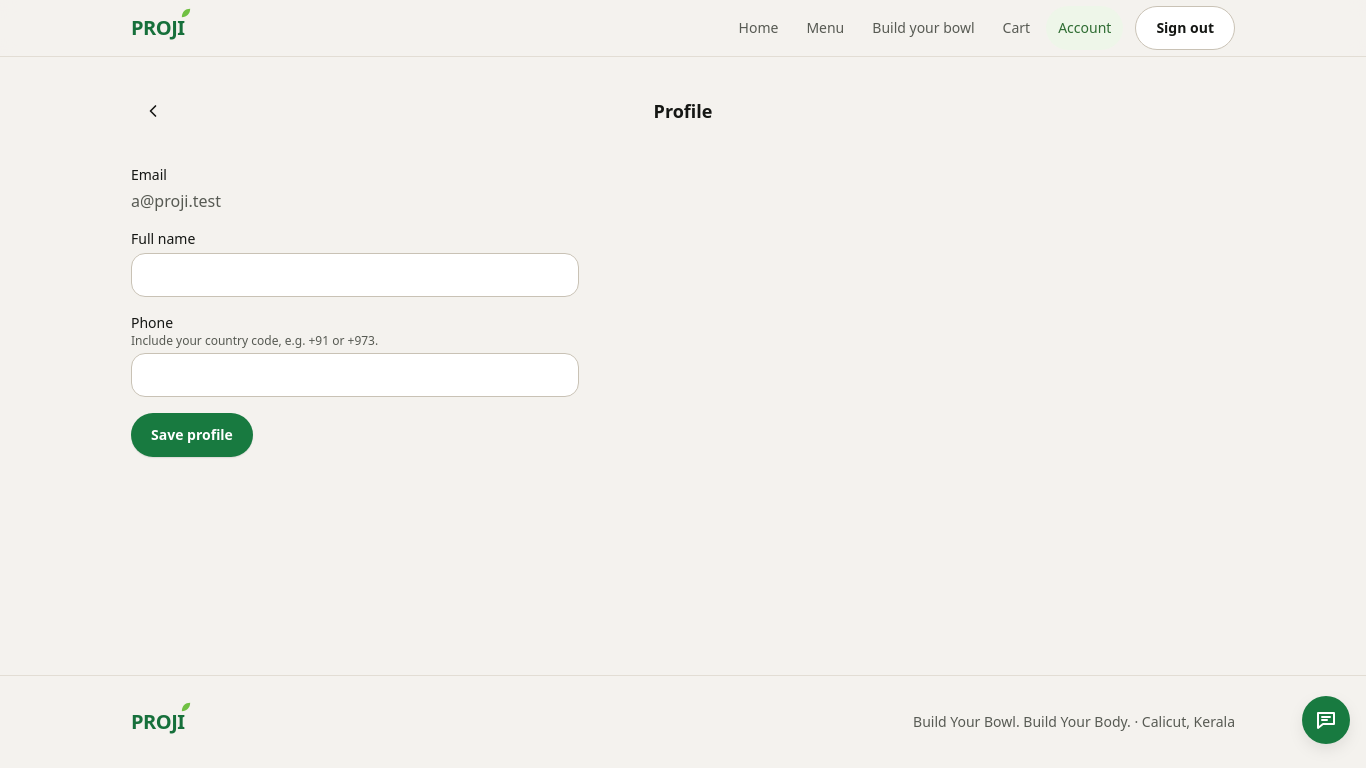
it: U-03/U-04 profile › recreates a missing profile, validates, focuses the invalid field and saves
Type "Akhil Raj" into the field labelled "Full name". click: (355, 275)
box: [131,253,579,297]
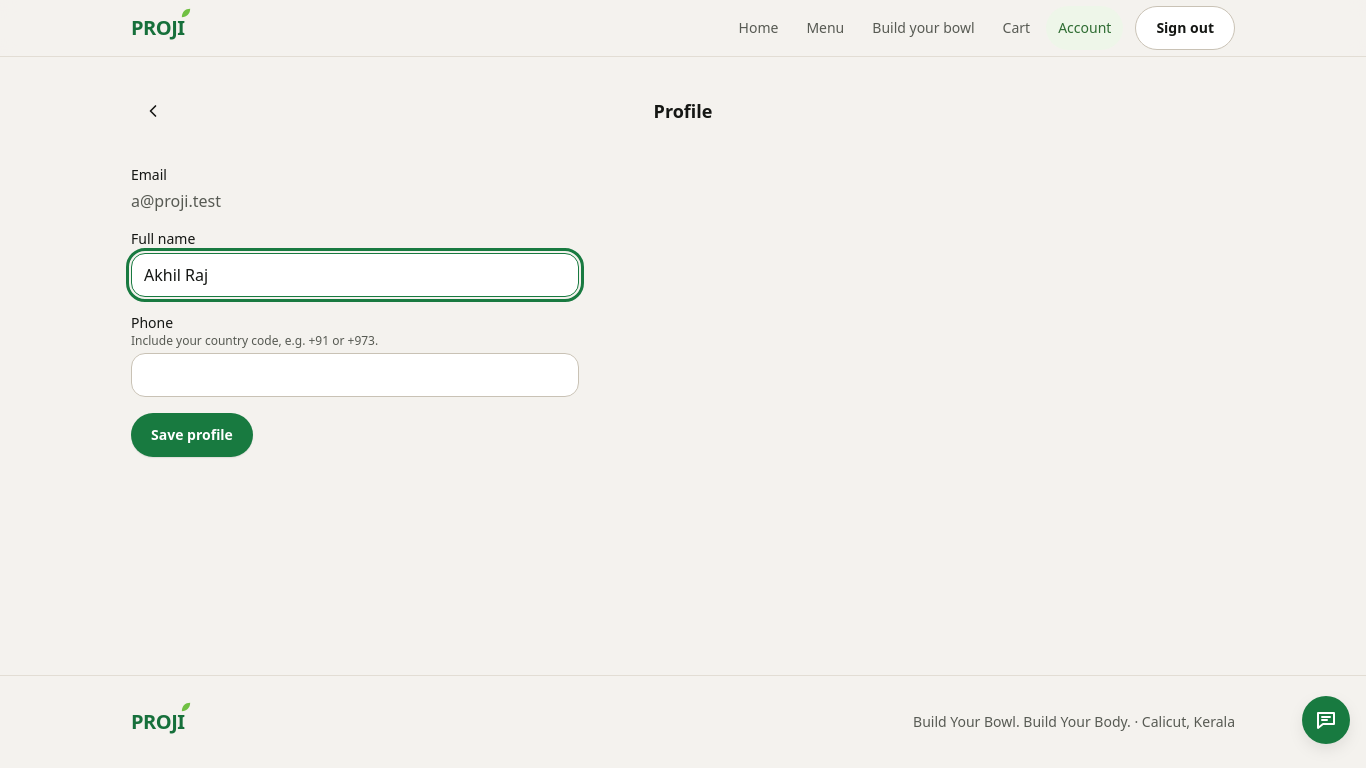
Type "not a phone" into the field labelled "Phone". click: (355, 375)
box: [131,353,579,397]
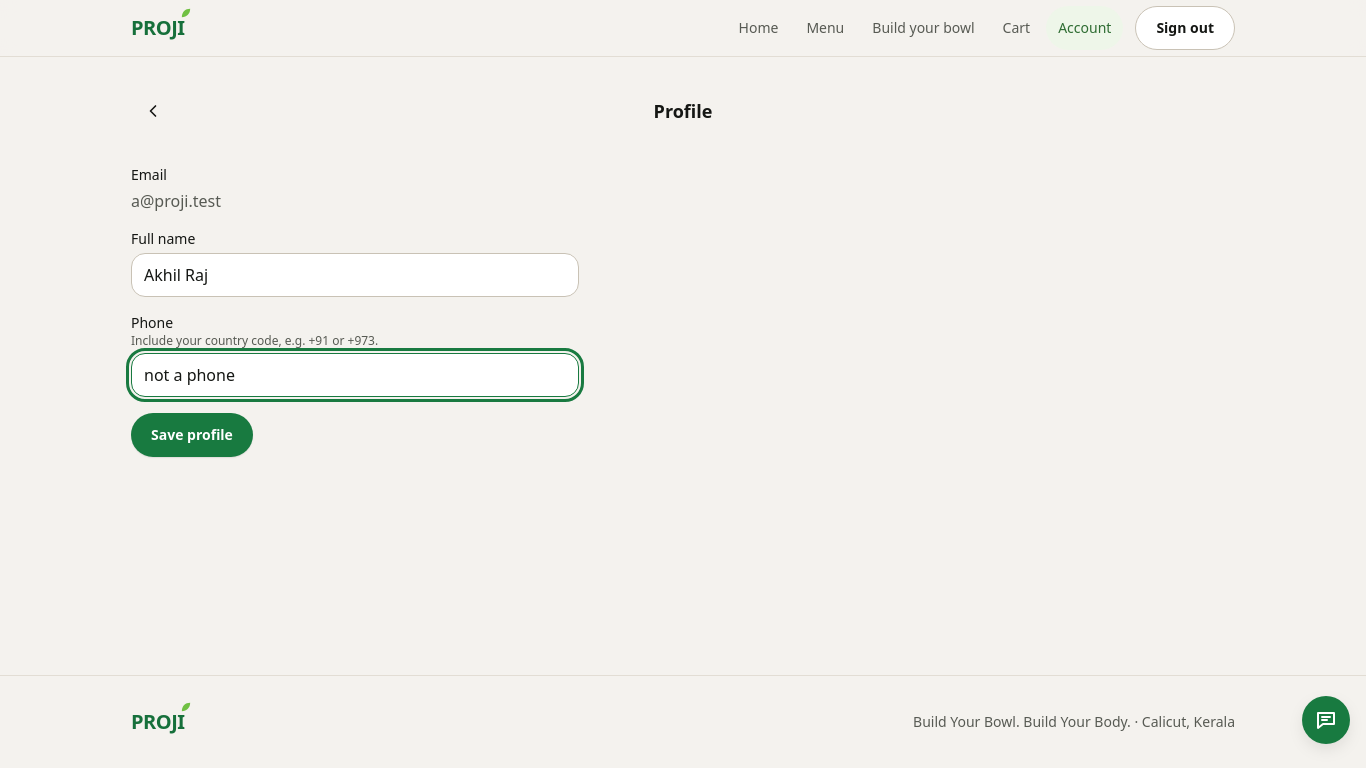
Click the button "Save profile". click: (192, 435)
box: [131,413,253,457]
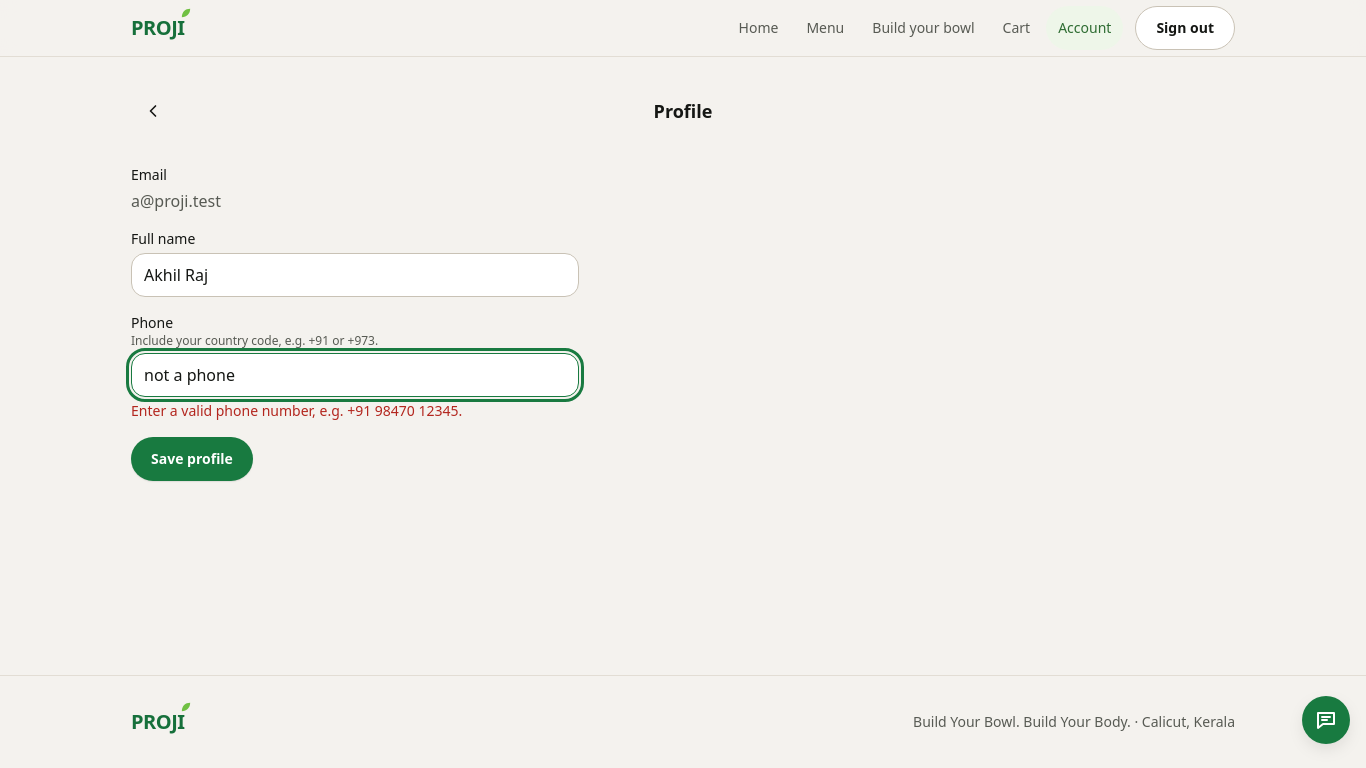
Replace the text in the field labelled "Phone" with "+91 98470 12345". click: (355, 375)
box: [131,353,579,397]
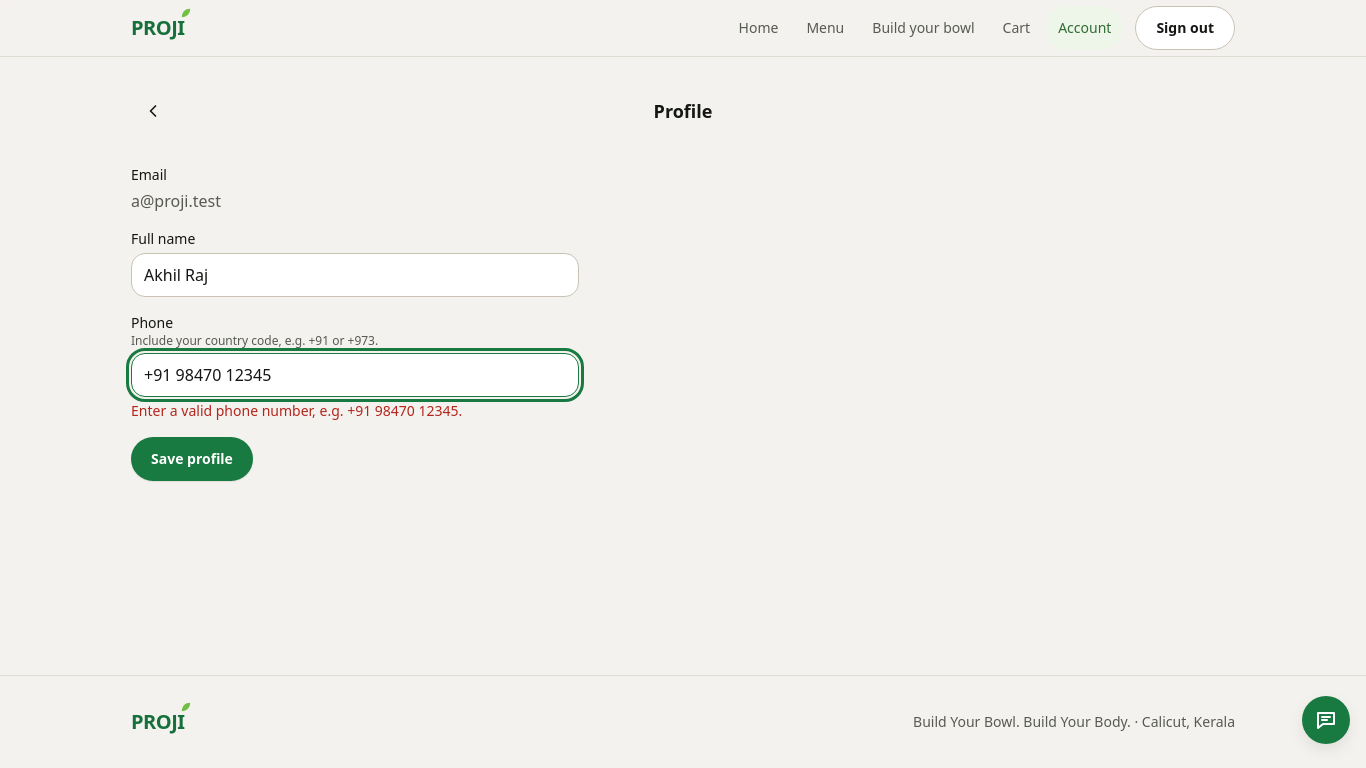
Click the button "Save profile". click: (192, 459)
box: [131,437,253,481]
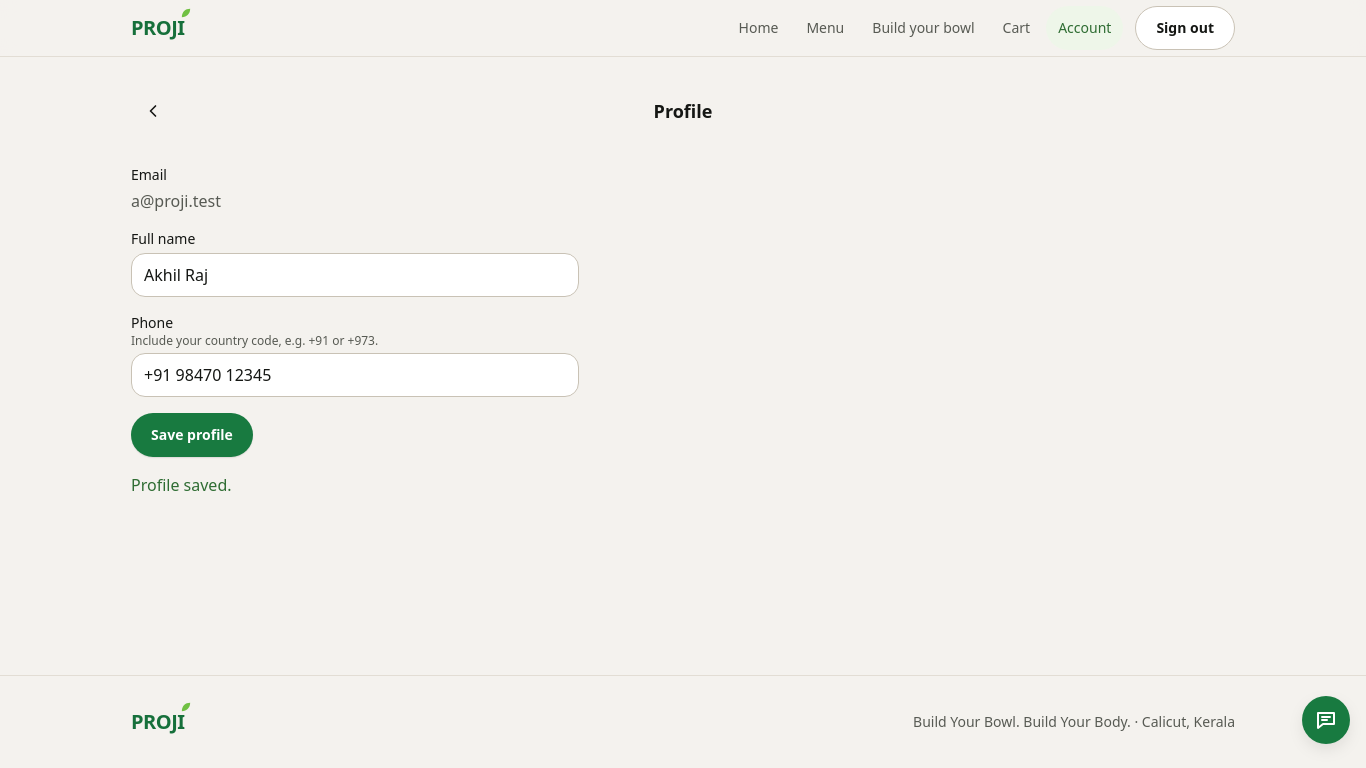
Expected: the text "Profile saved." is shown, [131,474,232,496]
